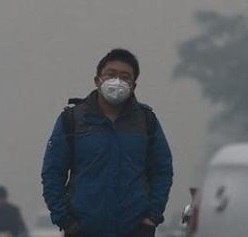person: (40, 47, 174, 237), (1, 184, 32, 237)
